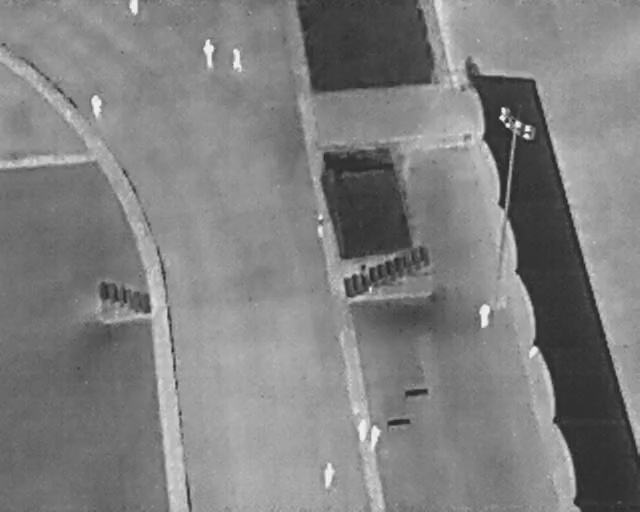Person: (200, 40, 216, 68), (323, 462, 336, 491), (477, 304, 491, 329), (230, 48, 243, 72), (90, 94, 103, 118), (357, 419, 367, 443), (126, 0, 141, 15), (371, 425, 380, 449), (316, 213, 325, 236)
